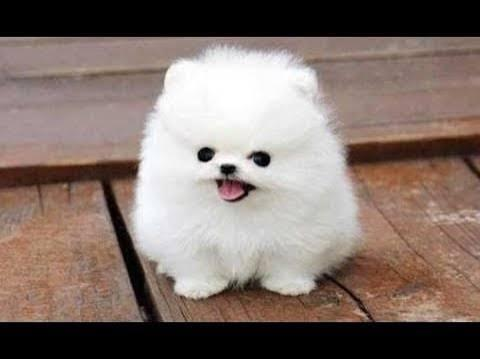puppy-dog: (131, 46, 365, 300)
